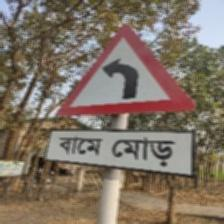Left-Turn: (42, 29, 198, 177)
